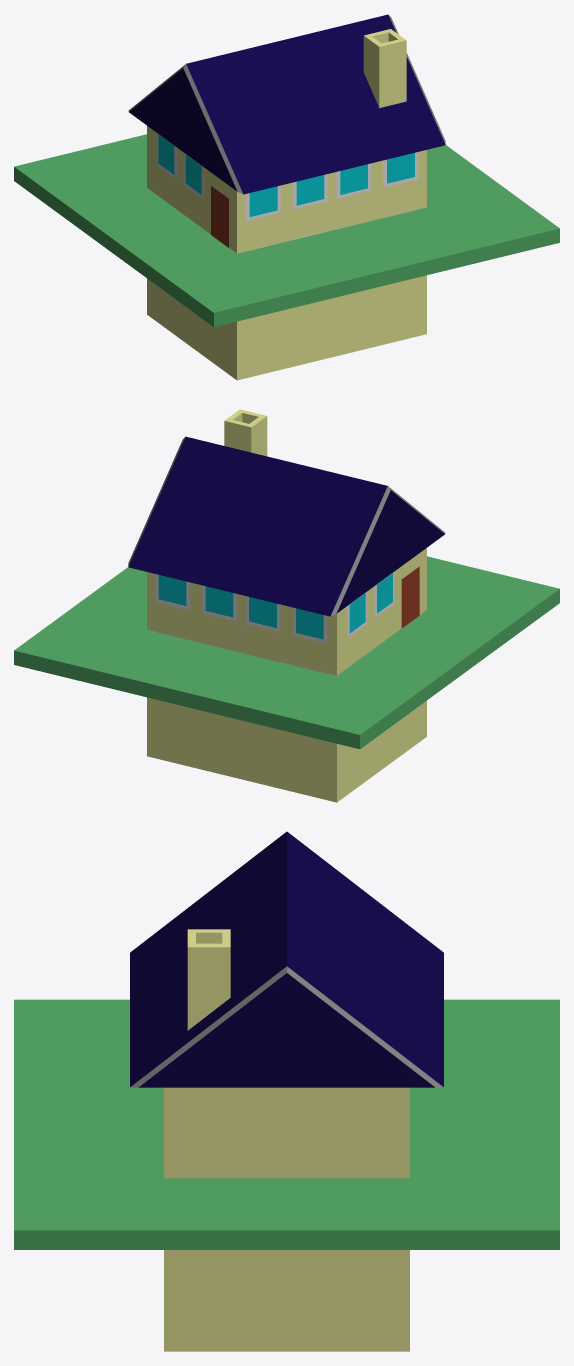
File: casaras.fbx
3 views of the same model, one above another, from view 1: azimuth 30°, elevation 25°; view 2: azimuth 150°, elevation 25°; view 3: azimuth 270°, elevation 25° (orthographic). The views are drawn at different scales.
Visible parts, largest first — view 1: Cube, Cube.002, Cube.001, Cube.003, Plane.006, Plane.033, Plane.034, Plane.036, Plane.035, Plane.012, Plane.011; view 2: Cube, Cube.002, Cube.001, Cube.003, Plane.006, Plane.001, Plane, Plane.002, Plane.003, Plane.011; view 3: Cube, Cube.002, Cube.001, Cube.003.
Boxes of the visible parts, bbox=[...] form: Cube: bbox=[14, 134, 559, 326]; Cube.002: bbox=[129, 14, 445, 194]; Cube.001: bbox=[147, 29, 426, 380]; Cube.003: bbox=[128, 15, 445, 194]; Plane.006: bbox=[211, 186, 228, 247]; Plane.033: bbox=[296, 175, 324, 205]; Plane.034: bbox=[249, 186, 277, 216]; Plane.036: bbox=[387, 153, 414, 183]; Plane.035: bbox=[340, 164, 367, 194]; Plane.012: bbox=[185, 154, 201, 194]; Plane.011: bbox=[158, 134, 174, 174]; Cube: bbox=[14, 556, 559, 749]; Cube.002: bbox=[128, 436, 444, 616]; Cube.001: bbox=[147, 409, 426, 802]; Cube.003: bbox=[128, 437, 445, 616]; Plane.006: bbox=[401, 566, 419, 628]; Plane.001: bbox=[205, 586, 233, 617]; Plane: bbox=[158, 575, 186, 605]; Plane.002: bbox=[296, 608, 323, 639]; Plane.003: bbox=[249, 597, 276, 627]; Plane.011: bbox=[349, 593, 365, 633]; Cube: bbox=[14, 999, 559, 1249]; Cube.002: bbox=[130, 831, 443, 1087]; Cube.001: bbox=[164, 929, 409, 1351]; Cube.003: bbox=[130, 966, 443, 1087].
Size of the model in its own units: 200 by 160 by 200.
